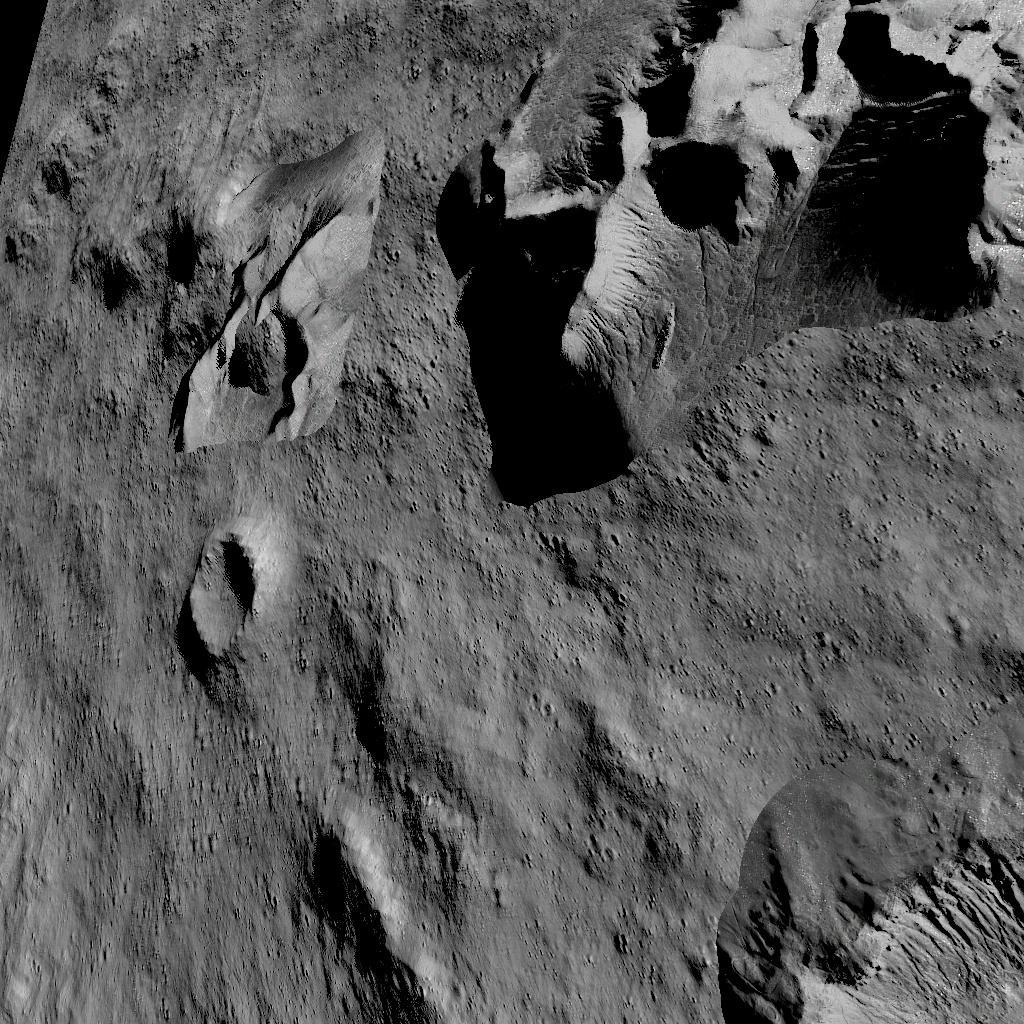Boulders: (433, 0, 1024, 505), (135, 128, 384, 450)
Crater: (731, 826, 1024, 1024), (175, 518, 269, 666)
Plan surface: (435, 516, 1024, 817), (3, 684, 299, 1024), (453, 828, 717, 1024), (0, 462, 163, 673), (113, 0, 419, 110)
